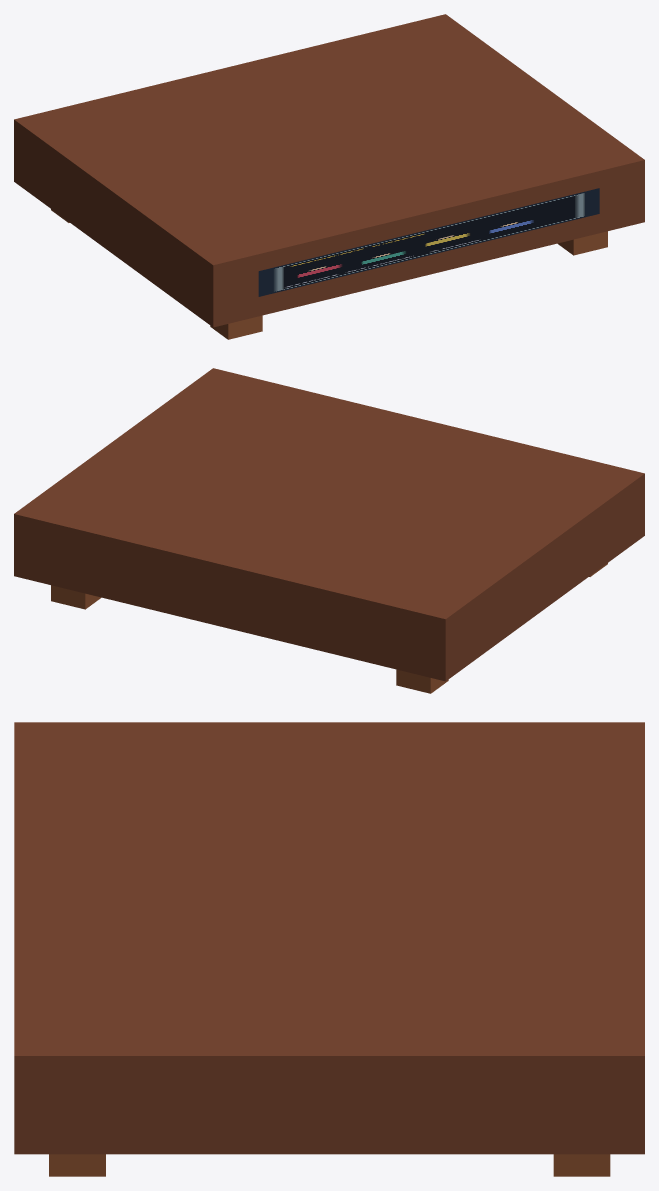
Rendered from games_console.glb.
3 renders of one model, top to bottom at view 1: azimuth 30°, elevation 25°; view 2: azimuth 150°, elevation 25°; view 3: azimuth 270°, elevation 25°, orthographic. The views are drawn at different scales.
Bounding box in the file's own units: 0.498 × 0.098 × 0.3983.
Materials: 2 (2 with a texture image).
